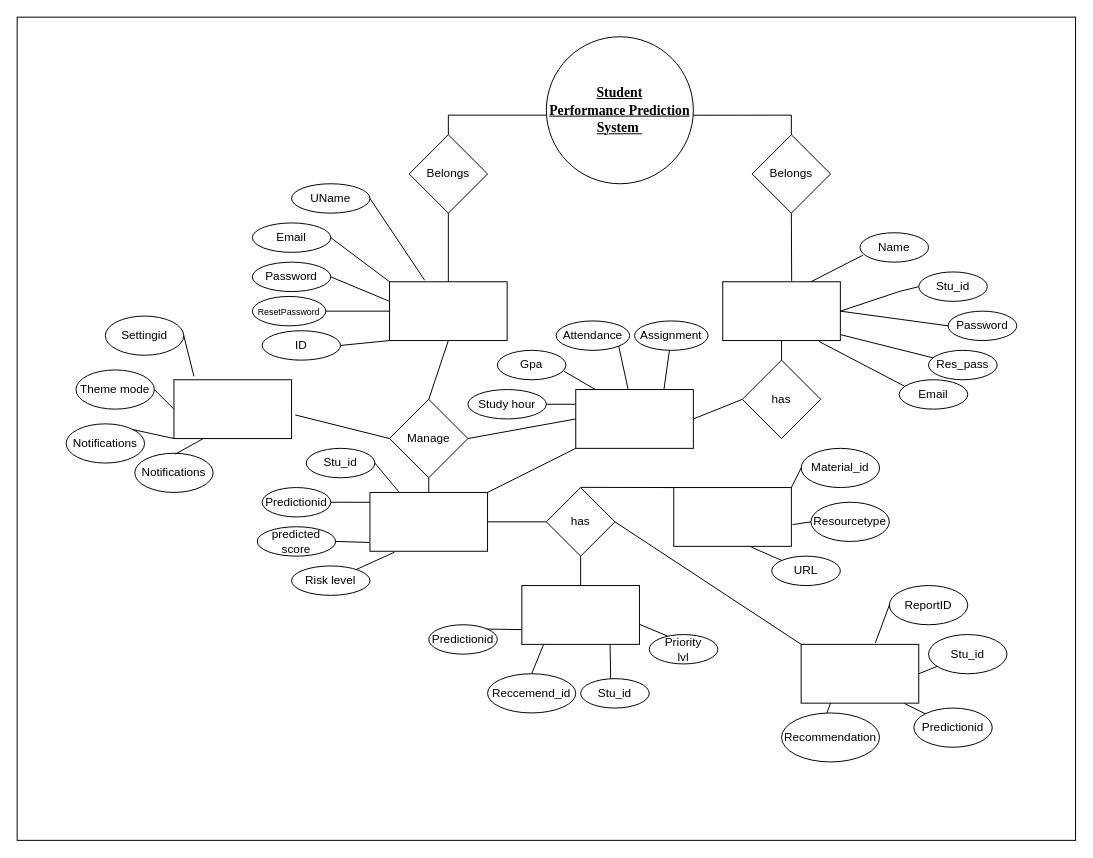
This 1093x858 diagram has some shape labels left out. Each missing label, with the centre of its shape:
"Admin" belongs at point (448, 311).
"Prediction data" belongs at point (634, 418).
"Predictions" belongs at point (428, 521).
"Recommendations" belongs at point (580, 614).
"Report" belongs at point (859, 673).
"Settings" belongs at point (232, 409).
"Students" belongs at point (781, 311).
"Study Materials" belongs at point (732, 516).
